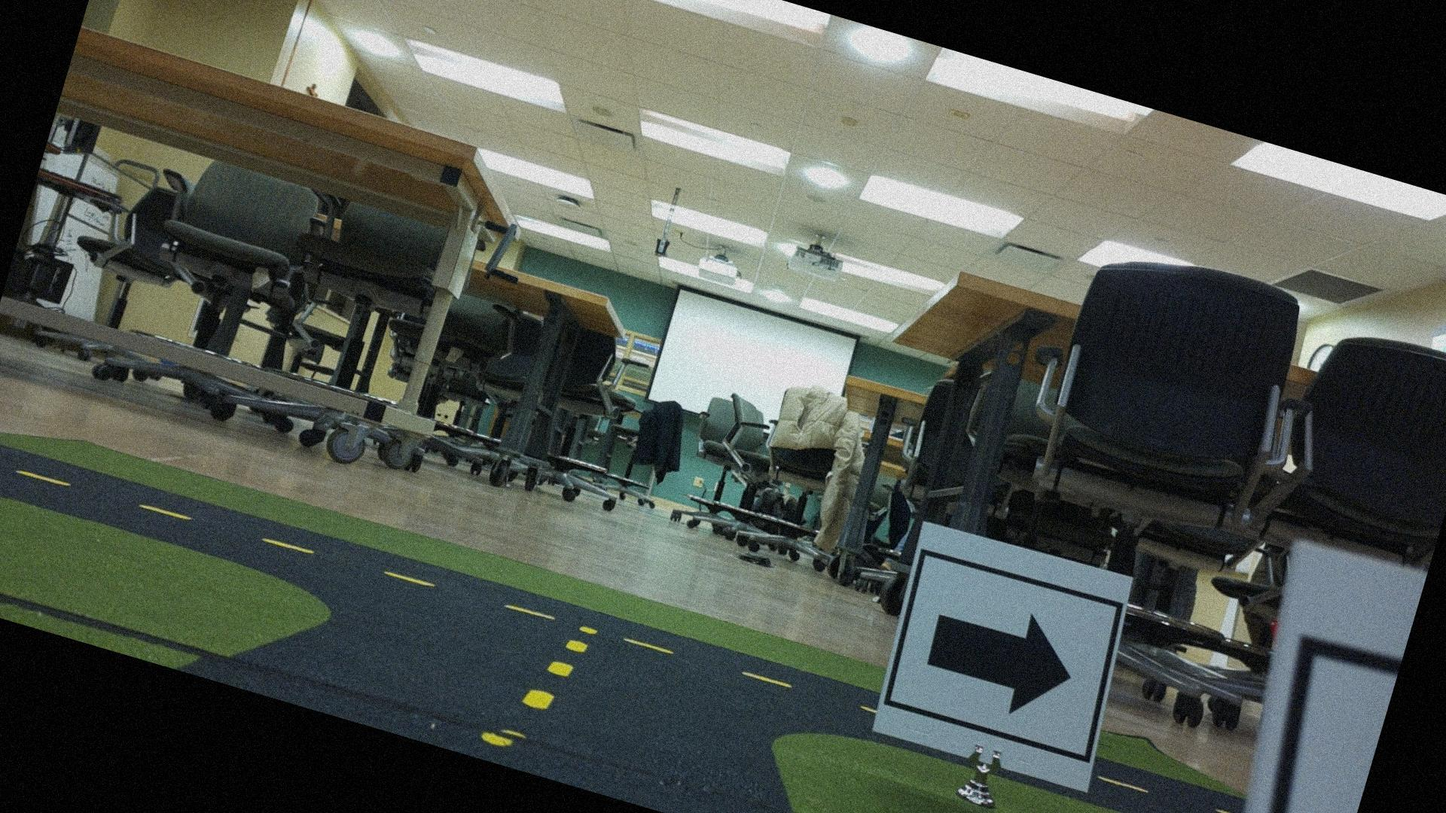turnleft: (869, 524, 1136, 796)
yellowline: (519, 611, 596, 722)
